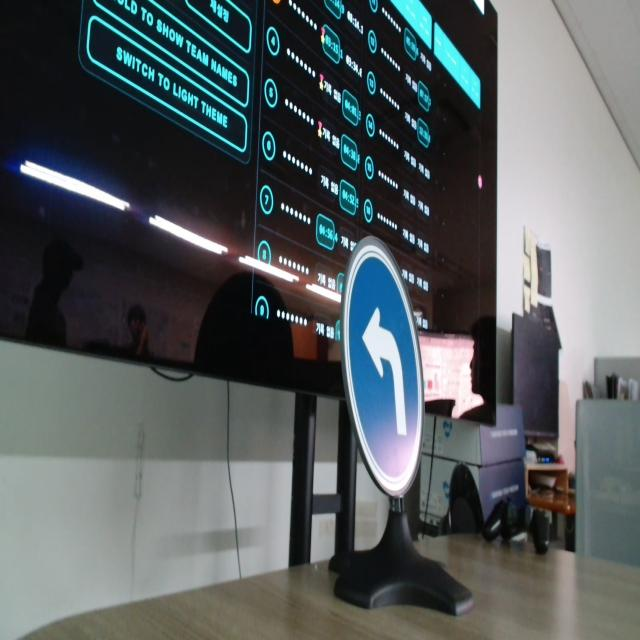left_direction: (320, 204, 470, 565)
